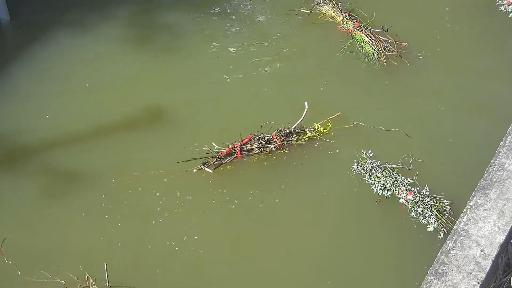twig: (174, 119, 378, 176), (339, 144, 464, 224), (314, 0, 422, 72), (0, 247, 133, 288), (494, 0, 512, 10)
